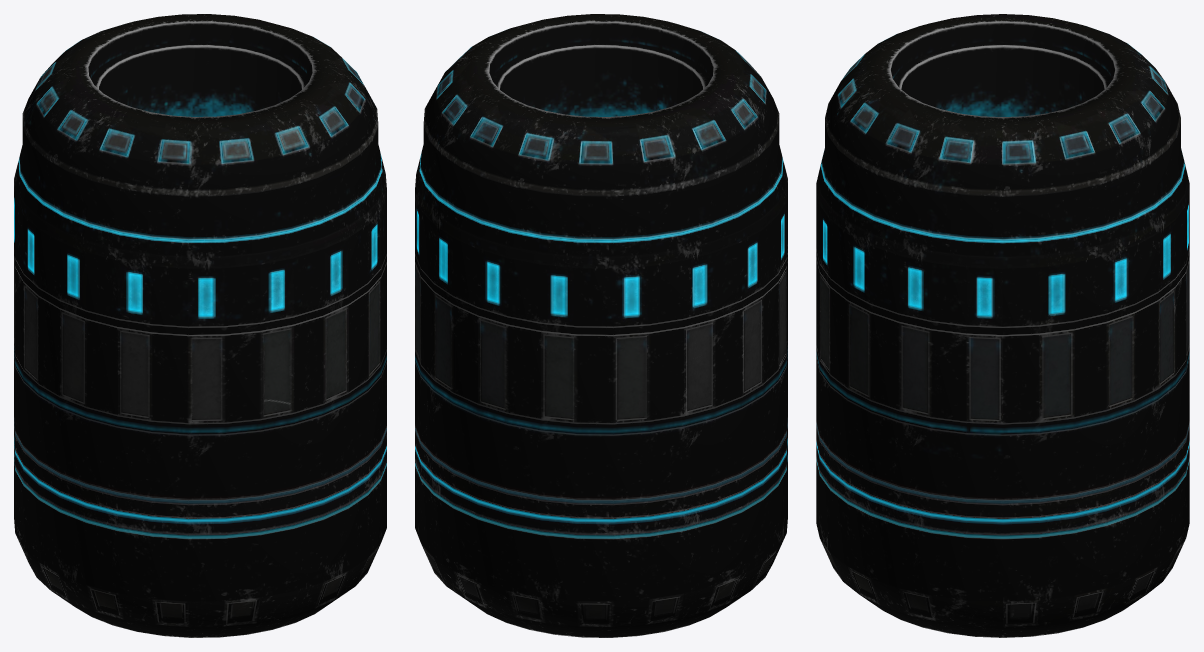
3 views of the same model, side by side, from view 1: azimuth 30°, elevation 25°; view 2: azimuth 150°, elevation 25°; view 3: azimuth 270°, elevation 25° (orthographic).
Visible parts, largest first — view 1: SM_ContainerS_JFG_1; view 2: SM_ContainerS_JFG_1; view 3: SM_ContainerS_JFG_1.
Part boxes in pixels (bbox=[...]): SM_ContainerS_JFG_1: bbox=[14, 14, 386, 637]; SM_ContainerS_JFG_1: bbox=[415, 14, 787, 637]; SM_ContainerS_JFG_1: bbox=[816, 14, 1189, 637].
Size of the model in its own units: 167 by 251 by 167.
Materials: 1 (1 with a texture image).
